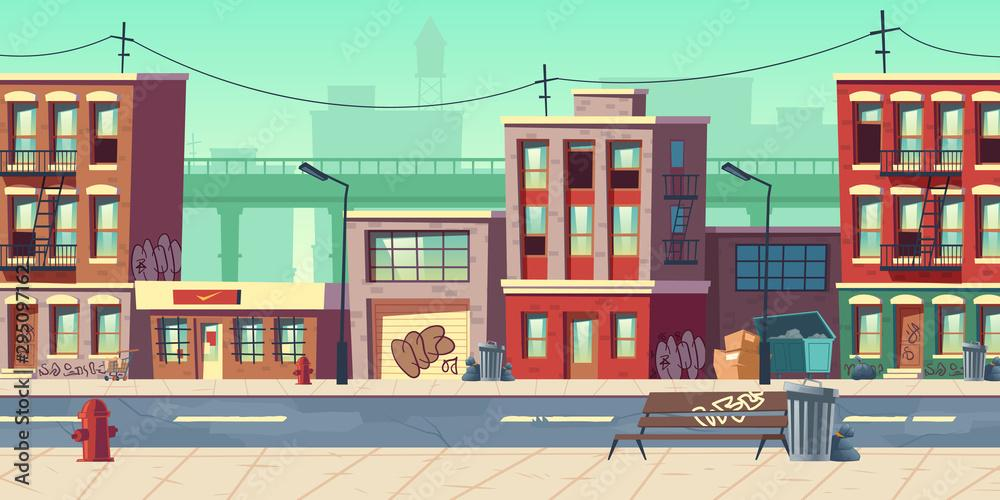road: (1, 446, 655, 498)
